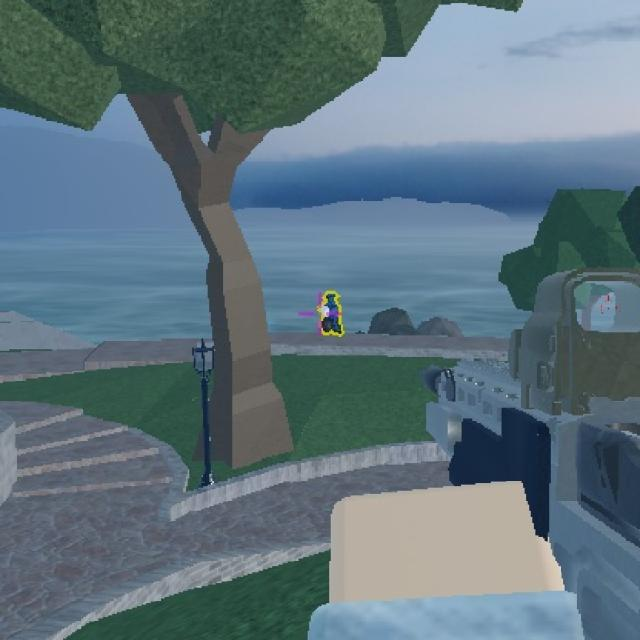player: (319, 290, 343, 338)
